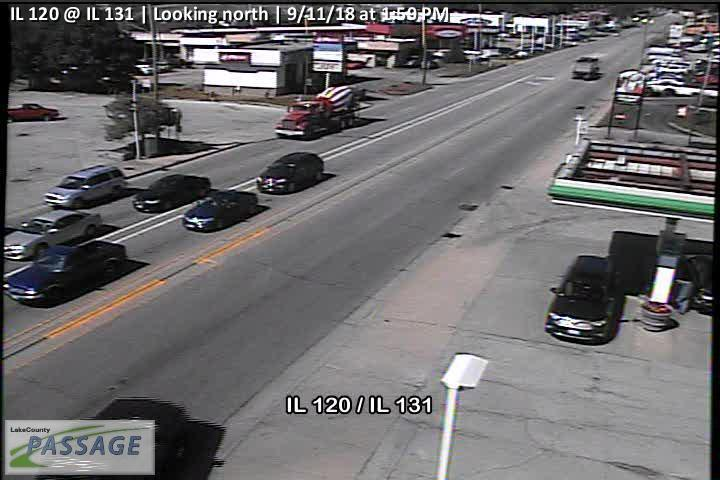SUV: (42, 163, 128, 211)
Sedan: (544, 254, 629, 345), (1, 209, 103, 262), (130, 174, 211, 214), (180, 189, 258, 230), (255, 152, 324, 194), (6, 103, 62, 122)
Truck: (1, 239, 129, 306), (275, 83, 357, 139)
